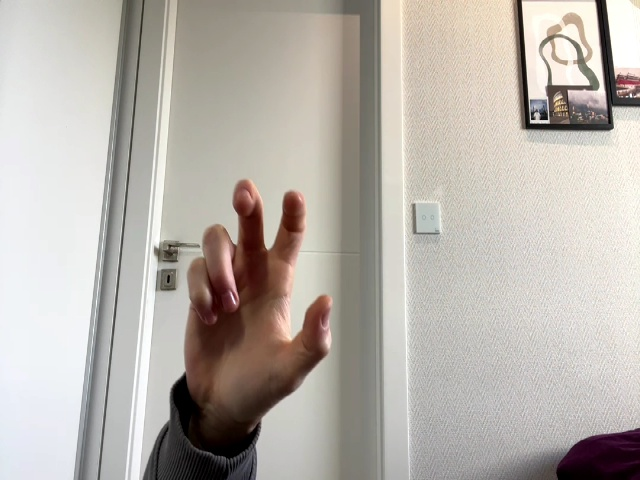CH: (184, 180, 332, 421)
